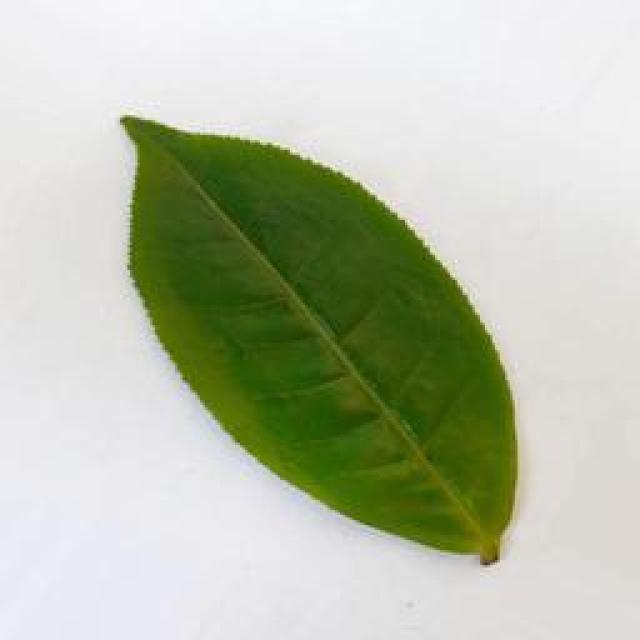Healthy: (99, 101, 529, 574)
